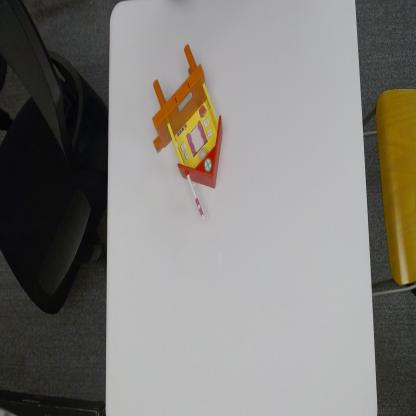House: (151, 43, 224, 222)
